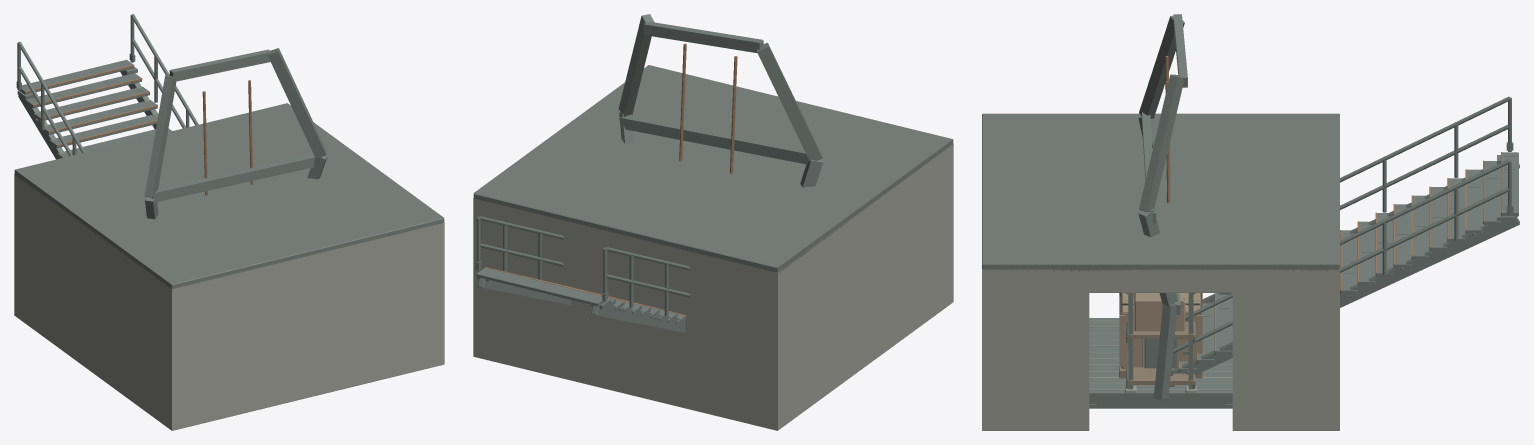
File: WarehouseSurfaceVariants.fbx
3 renders of one model, left to right at view 1: azimuth 30°, elevation 25°; view 2: azimuth 150°, elevation 25°; view 3: azimuth 270°, elevation 25°, orthographic. The views are drawn at different scales.
Parts seen in each view (by area): view 1: V_RoomShell_1_7, V_RoomShell_1_5, V_RoomShell_1_6, V_Stair_1_5, V_TwistedFrame_1_1, V_TwistedFrame_1_0, V_Stair_1_1, V_Stair_1_4, V_RoomShell_1_4, V_Stair_1_2, V_RoomShell_1_3, V_TwistedFrame_1_2; view 2: V_RoomShell_1_7, V_RoomShell_1_3, V_RoomShell_1_6, V_TwistedFrame_1_0, V_TwistedFrame_1_1, V_Stair_1_1, V_Stair_1_5, V_Stair_1_2, V_TwistedFrame_1_2, V_RoomShell_1_5; view 3: V_RoomShell_1_7, V_RoomShell_1_4, V_Stair_1_5, V_TwistedFrame_1_1, V_Stair_1_1, V_Platform_100_0, V_Stair_1_2, V_Cargo_1_2, V_RoomShell_1_3, V_Rack_1_3, V_TwistedFrame_1_0, V_Stair_1_4 (+7 smaller).
Part boxes in pixels (left/top/right/bottom): V_RoomShell_1_7: left=14, top=103, right=444, bottom=288; V_RoomShell_1_5: left=167, top=223, right=444, bottom=430; V_RoomShell_1_6: left=14, top=174, right=178, bottom=430; V_Stair_1_5: left=18, top=59, right=171, bottom=158; V_TwistedFrame_1_1: left=144, top=48, right=327, bottom=219; V_TwistedFrame_1_0: left=151, top=49, right=314, bottom=202; V_Stair_1_1: left=16, top=14, right=198, bottom=155; V_Stair_1_4: left=24, top=64, right=157, bottom=146; V_RoomShell_1_4: left=437, top=222, right=444, bottom=365; V_Stair_1_2: left=17, top=67, right=158, bottom=159; V_RoomShell_1_3: left=14, top=175, right=18, bottom=317; V_TwistedFrame_1_2: left=202, top=80, right=253, bottom=195; V_RoomShell_1_7: left=473, top=65, right=953, bottom=273; V_RoomShell_1_3: left=473, top=198, right=782, bottom=430; V_RoomShell_1_6: left=770, top=144, right=953, bottom=430; V_TwistedFrame_1_0: left=620, top=22, right=808, bottom=164; V_TwistedFrame_1_1: left=618, top=14, right=823, bottom=187; V_Stair_1_1: left=475, top=216, right=690, bottom=315; V_Stair_1_5: left=477, top=268, right=685, bottom=325; V_Stair_1_2: left=477, top=277, right=685, bottom=332; V_TwistedFrame_1_2: left=679, top=43, right=737, bottom=173; V_RoomShell_1_5: left=949, top=144, right=953, bottom=304; V_RoomShell_1_7: left=982, top=113, right=1339, bottom=271; V_RoomShell_1_4: left=982, top=269, right=1339, bottom=430; V_Stair_1_5: left=1179, top=152, right=1518, bottom=372; V_TwistedFrame_1_1: left=1138, top=15, right=1184, bottom=400; V_Stair_1_1: left=1170, top=96, right=1513, bottom=375; V_Platform_100_0: left=1089, top=318, right=1232, bottom=403; V_Stair_1_2: left=1173, top=155, right=1519, bottom=374; V_Cargo_1_2: left=1119, top=293, right=1202, bottom=369; V_RoomShell_1_3: left=1330, top=269, right=1339, bottom=430; V_Rack_1_3: left=1133, top=293, right=1185, bottom=331; V_TwistedFrame_1_0: left=1142, top=14, right=1187, bottom=314; V_Stair_1_4: left=1179, top=152, right=1502, bottom=369.
Size of the model in its own units: 6 by 6.15 by 9.02.
